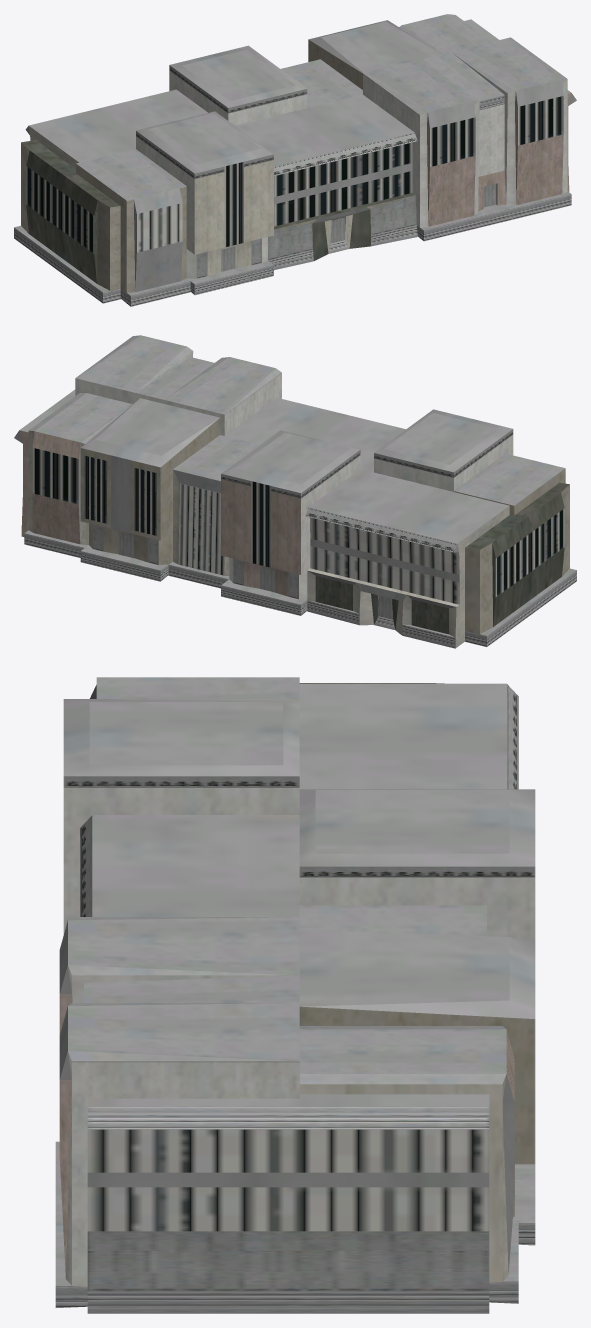
The model's file is thm_corl_imprv_building_block_64x32_s01_l3.fbx.
The picture shows the model from 3 angles, top to bottom: view 1: azimuth 30°, elevation 25°; view 2: azimuth 150°, elevation 25°; view 3: azimuth 270°, elevation 25°; orthographic projection. The views are drawn at different scales.
Visible parts, largest first — view 1: mesh_node; view 2: mesh_node; view 3: mesh_node.
Boxes of the visible parts, x1,y1,x2,y2 form: mesh_node: (14,14,576,306); mesh_node: (14,335,576,648); mesh_node: (55,677,535,1313).
Bounding box in the file's own units: 66.11 × 17 × 29.5.
1 material, 1 textured.
